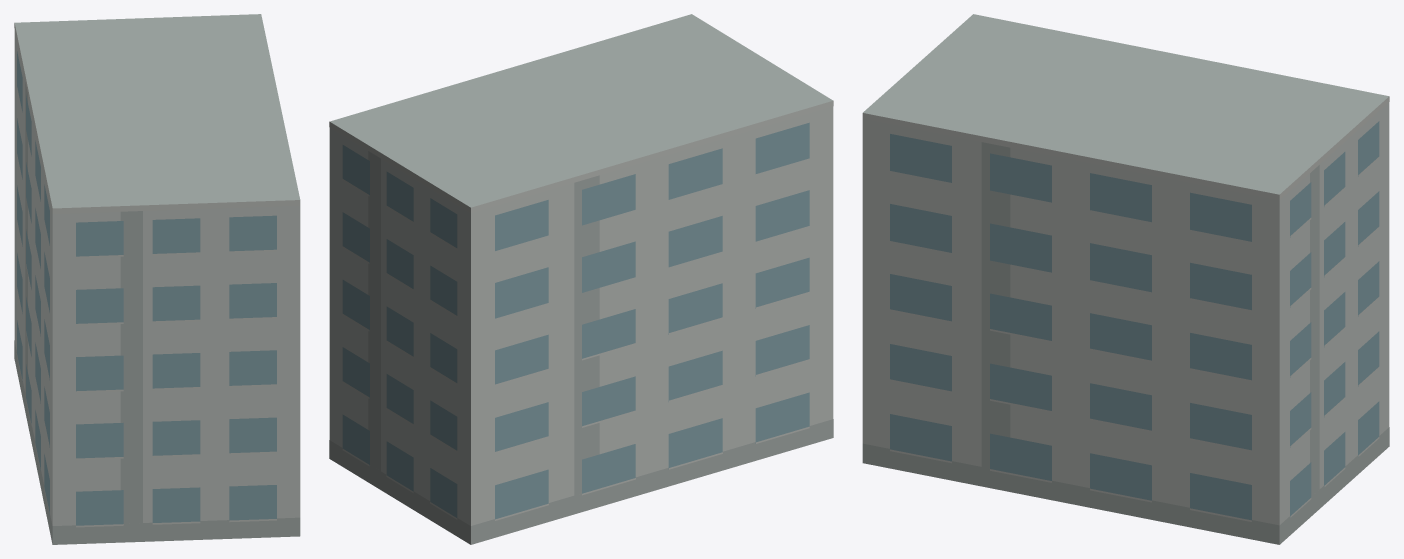
Rendered from survey-upis-32523807.glb.
The picture shows the model from 3 angles, left to right: view 1: azimuth 30°, elevation 25°; view 2: azimuth 150°, elevation 25°; view 3: azimuth 270°, elevation 25°; orthographic projection. The views are drawn at different scales.
Parts seen in each view (by area): view 1: survey-upis-32523807.tmp; view 2: survey-upis-32523807.tmp; view 3: survey-upis-32523807.tmp.
Boxes of the visible parts, x1,y1,x2,y2 form: survey-upis-32523807.tmp: (14,14,300,544); survey-upis-32523807.tmp: (329,14,833,544); survey-upis-32523807.tmp: (862,14,1389,544).
Size of the model in its own units: 16.16 by 14.6 by 19.92.
